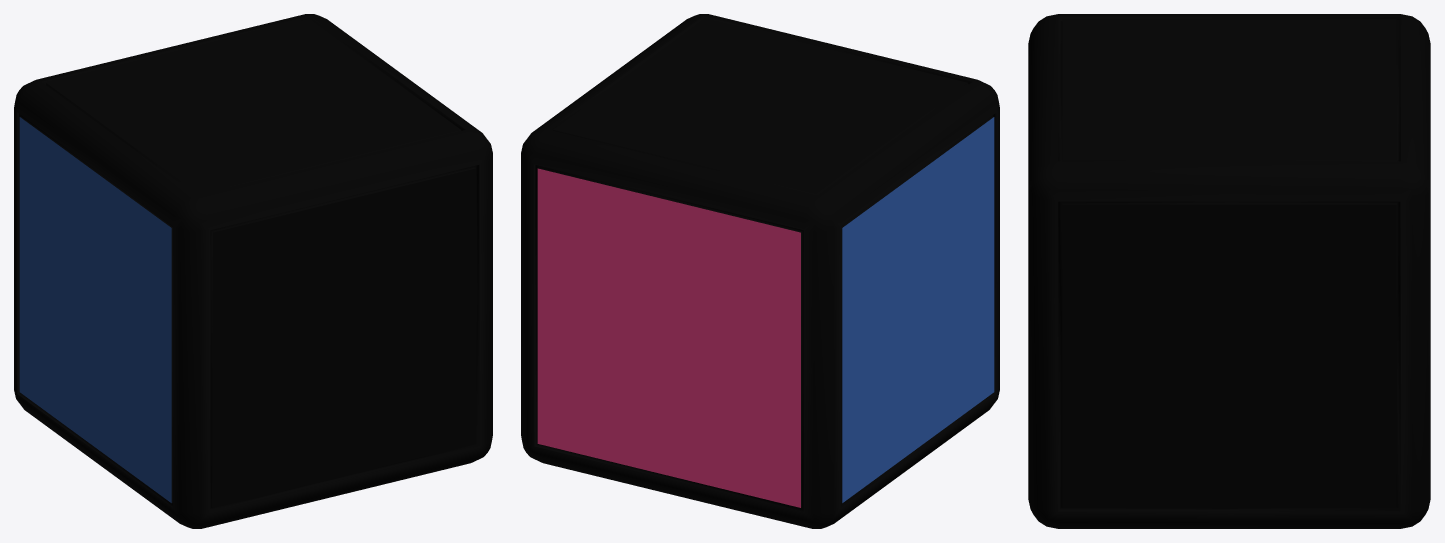
Rendered from singlecube20.gltf.
3 views of the same model, side by side, from view 1: azimuth 30°, elevation 25°; view 2: azimuth 150°, elevation 25°; view 3: azimuth 270°, elevation 25° (orthographic). The views are drawn at different scales.
Visible parts, largest first — view 1: Cube.009; view 2: Cube.009; view 3: Cube.009.
Part boxes in pixels (x1=…): Cube.009: x1=14, y1=14, x2=492, y2=528; Cube.009: x1=521, y1=14, x2=999, y2=528; Cube.009: x1=1028, y1=14, x2=1430, y2=528.
Bounding box in the file's own units: 2 × 2 × 2.
